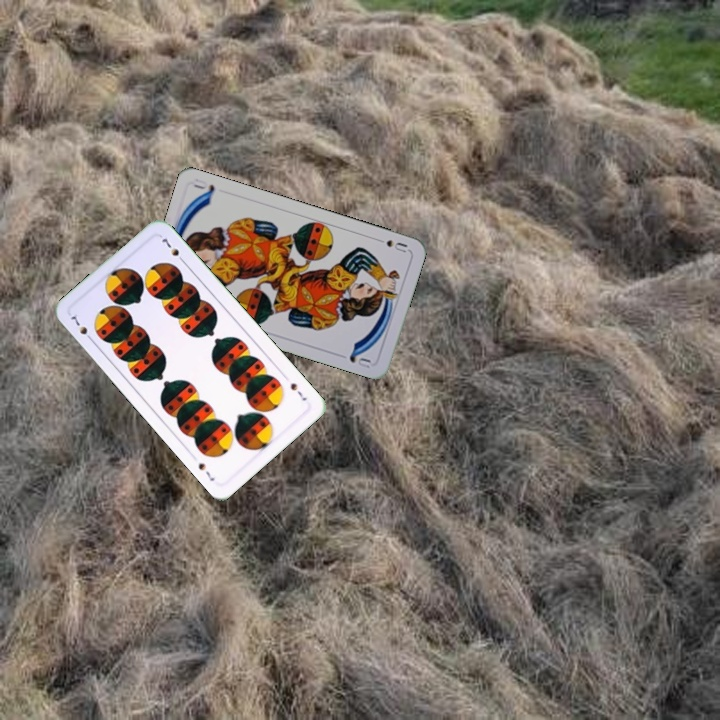S7: (66, 312, 96, 345), (286, 379, 309, 403)
SU: (371, 234, 410, 255)
